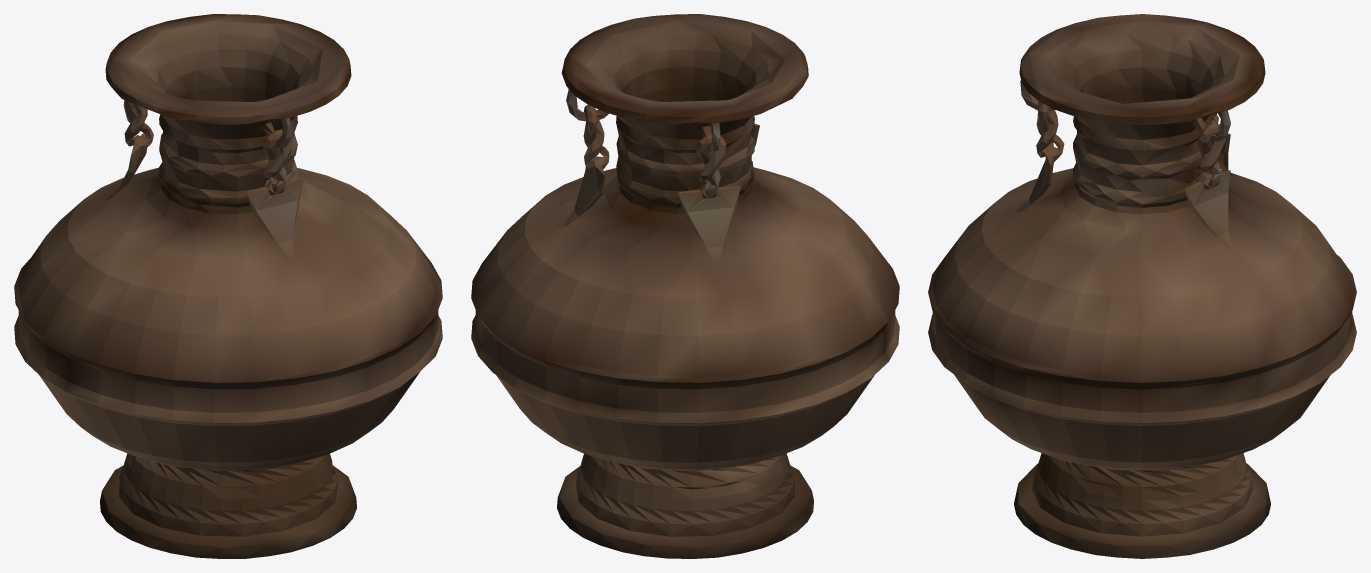
File: long_necked_jar_with_curved_pedestal_ae6ef6df.glb
3 views of the same model, side by side, from view 1: azimuth 30°, elevation 25°; view 2: azimuth 150°, elevation 25°; view 3: azimuth 270°, elevation 25° (orthographic).
Visible parts, largest first — view 1: SM_24FO0019_Low_Material.001_0; view 2: SM_24FO0019_Low_Material.001_0; view 3: SM_24FO0019_Low_Material.001_0.
Part boxes in pixels (left/top/right/bottom): SM_24FO0019_Low_Material.001_0: left=14, top=14, right=442, bottom=558; SM_24FO0019_Low_Material.001_0: left=471, top=14, right=899, bottom=558; SM_24FO0019_Low_Material.001_0: left=928, top=14, right=1356, bottom=558.
Bounding box in the file's own units: 0.1605 × 0.1832 × 0.1605.
